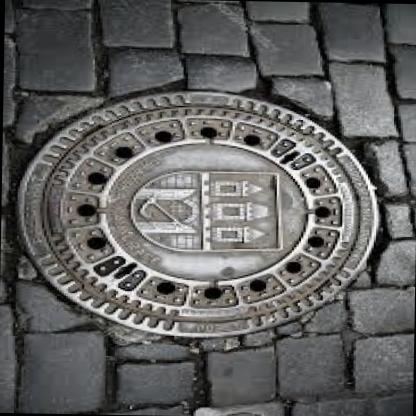manholes: (6, 80, 402, 356)
